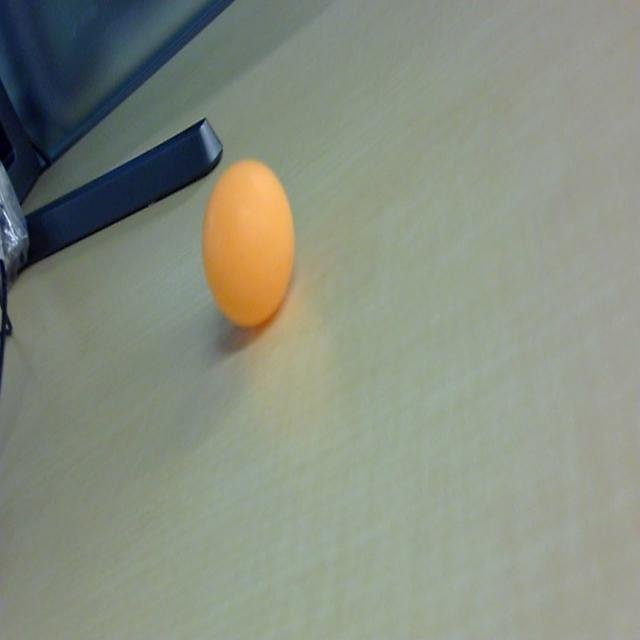ball: (202, 158, 296, 332)
